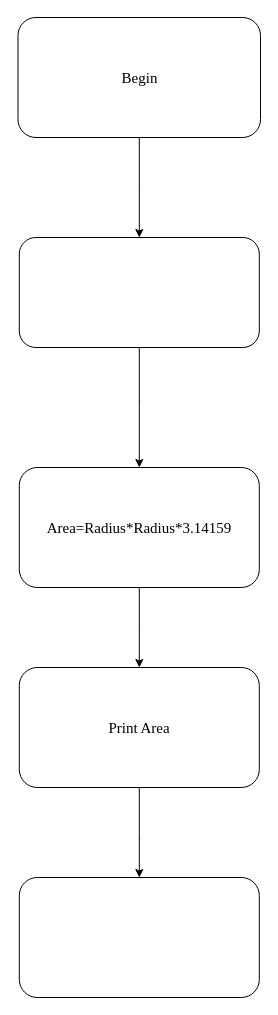
Image size: 278x1015. Some labels were removed from this diagram. Each missing label, with the centre of its shape:
"End." belongs at point (138, 937).
"Input Radius" belongs at point (138, 292).
